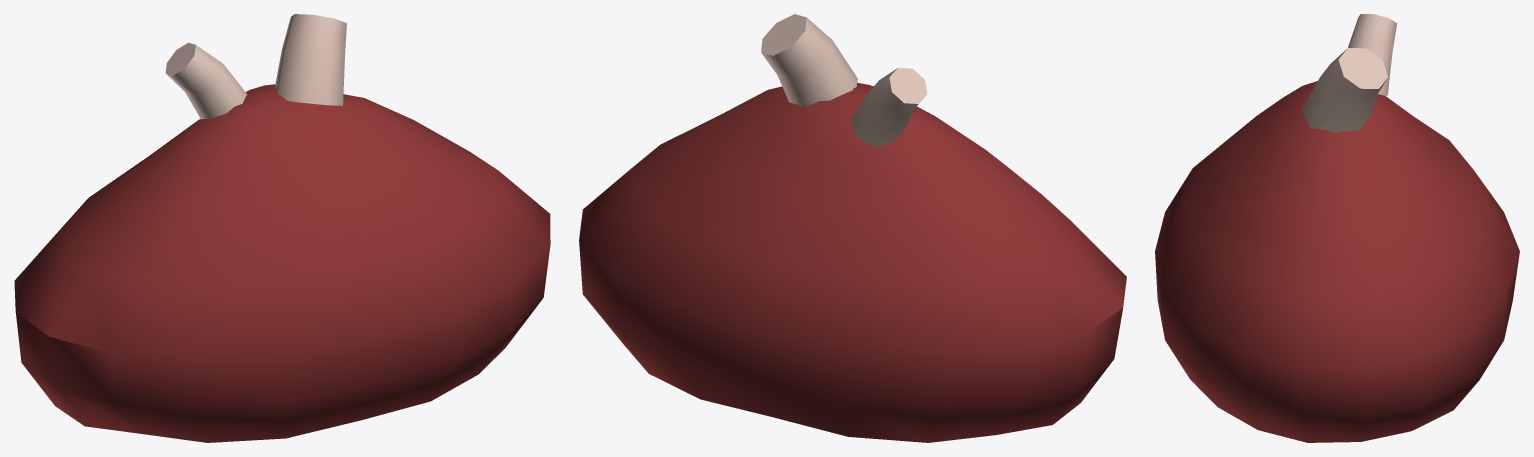
File: gale_ram_heart.glb
The picture shows the model from 3 angles, left to right: view 1: azimuth 30°, elevation 25°; view 2: azimuth 150°, elevation 25°; view 3: azimuth 270°, elevation 25°; orthographic projection. The views are drawn at different scales.
Parts seen in each view (by area): view 1: gale_ram_heart; view 2: gale_ram_heart; view 3: gale_ram_heart.
Part boxes in pixels (x1,y1,x2,y2): gale_ram_heart: (14, 14, 550, 442); gale_ram_heart: (579, 14, 1126, 442); gale_ram_heart: (1155, 14, 1519, 442).
Size of the model in its own units: 0.09 by 0.06 by 0.06.
